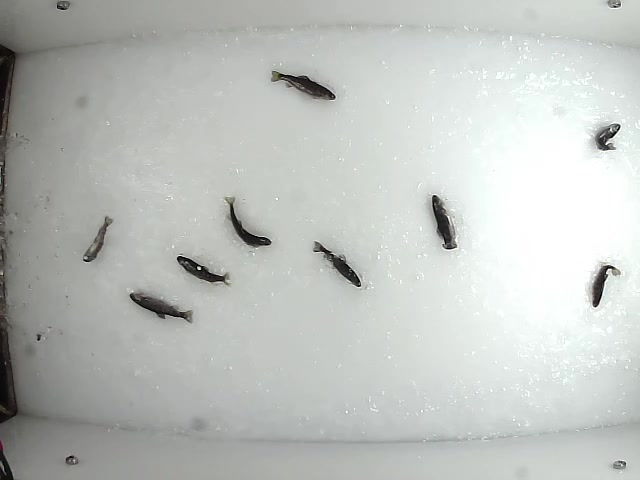fish: (308, 238, 364, 290), (222, 194, 274, 249), (126, 288, 196, 325), (269, 68, 338, 102), (173, 252, 234, 287), (78, 212, 117, 263), (428, 193, 460, 250), (587, 263, 623, 309), (592, 120, 622, 152)
